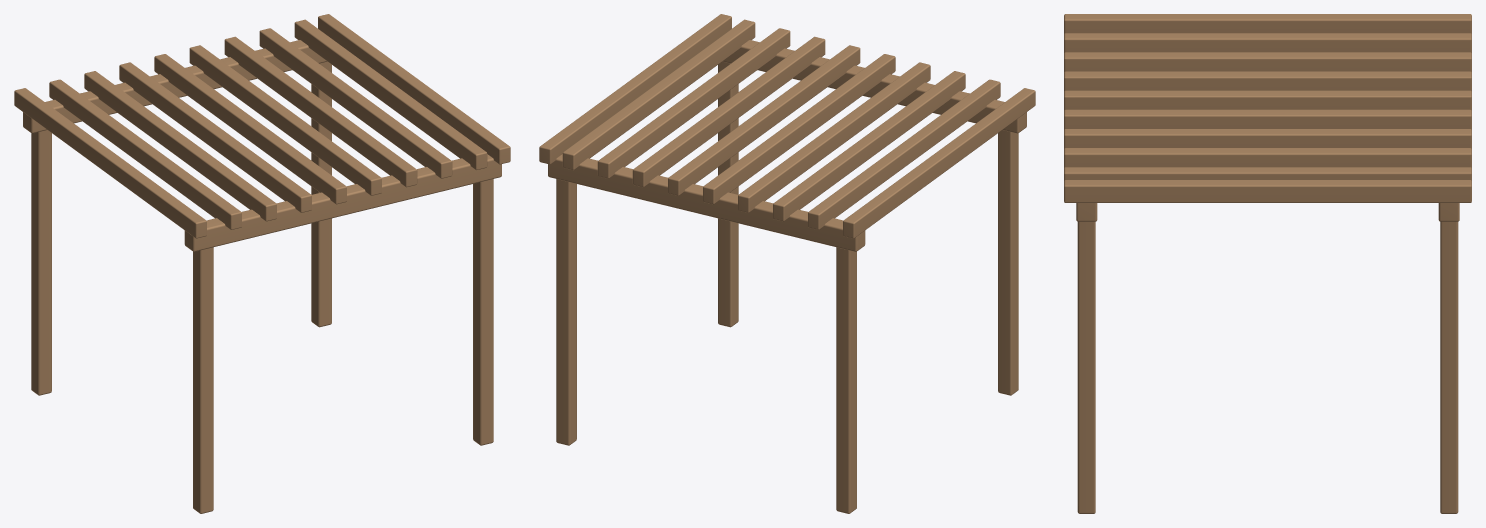
Rendered from atelier-pergola.glb.
3 renders of one model, left to right at view 1: azimuth 30°, elevation 25°; view 2: azimuth 150°, elevation 25°; view 3: azimuth 270°, elevation 25°, orthographic. The views are drawn at different scales.
Parts seen in each view (by area): view 1: legs.201; view 2: legs.201; view 3: legs.201.
Boxes of the visible parts, x1=… form: legs.201: x1=14, y1=14, x2=510, y2=513; legs.201: x1=539, y1=14, x2=1035, y2=513; legs.201: x1=1064, y1=14, x2=1471, y2=513.
Bounding box in the file's own units: 2.7 × 2.45 × 2.7.
